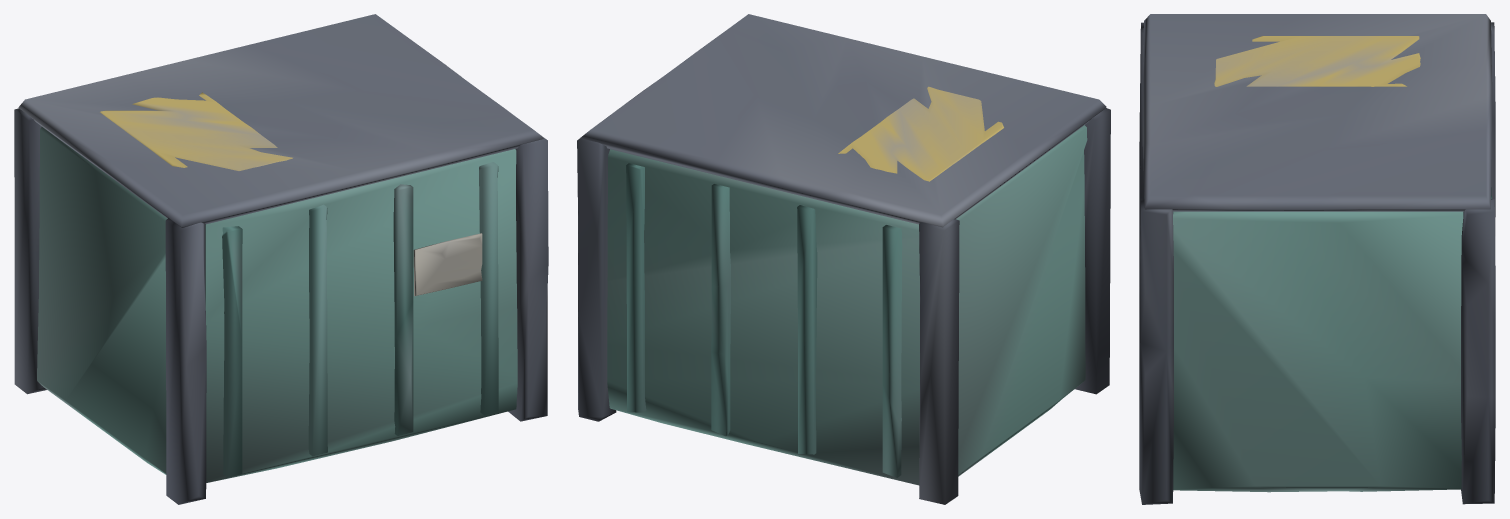
Rendered from bay_container.glb.
3 views of the same model, side by side, from view 1: azimuth 30°, elevation 25°; view 2: azimuth 150°, elevation 25°; view 3: azimuth 270°, elevation 25° (orthographic). The views are drawn at different scales.
Parts seen in each view (by area): view 1: container; view 2: container; view 3: container.
Boxes of the visible parts, <box> form: container: <box>14,14,548,504</box>; container: <box>577,14,1110,504</box>; container: <box>1139,14,1495,504</box>.
Size of the model in its own units: 1.3 by 0.9633 by 1.02.
